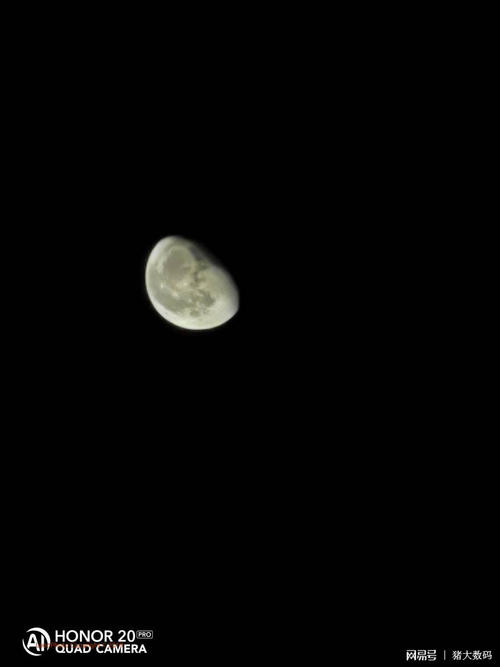moon: (145, 234, 243, 330)
